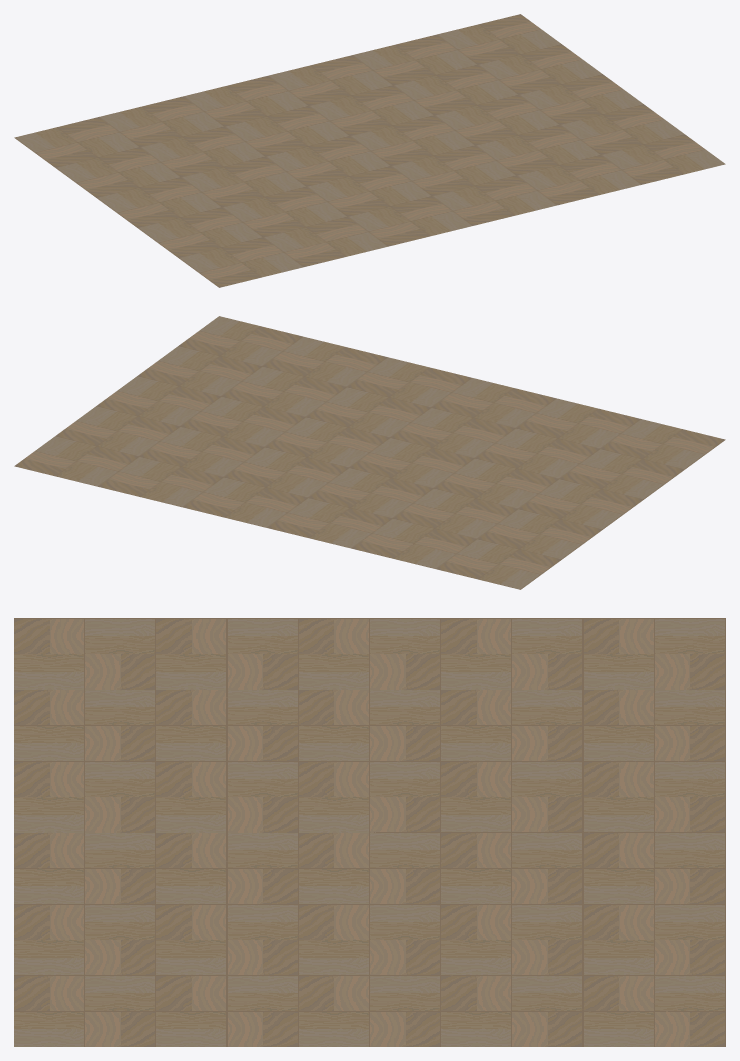
File: kd_stage_135ded_4_24_exterior.glb
3 renders of one model, top to bottom at view 1: azimuth 30°, elevation 25°; view 2: azimuth 150°, elevation 25°; view 3: azimuth 270°, elevation 25°, orthographic. The views are drawn at different scales.
Parts seen in each view (by area): view 1: kd_stage_135ded_4_24_exterior; view 2: kd_stage_135ded_4_24_exterior; view 3: kd_stage_135ded_4_24_exterior.
Part boxes in pixels (x1,y1,x2,y2): kd_stage_135ded_4_24_exterior: [14, 14, 725, 287]; kd_stage_135ded_4_24_exterior: [14, 316, 725, 589]; kd_stage_135ded_4_24_exterior: [14, 618, 725, 1046].
Size of the model in its own units: 4.51 by 0.000184 by 3.16.
1 material, 1 textured.
